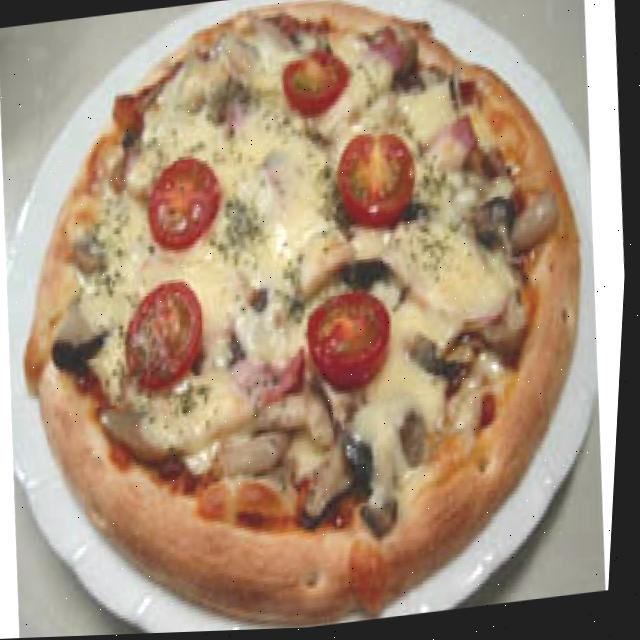汉堡快餐: (0, 0, 627, 640)
